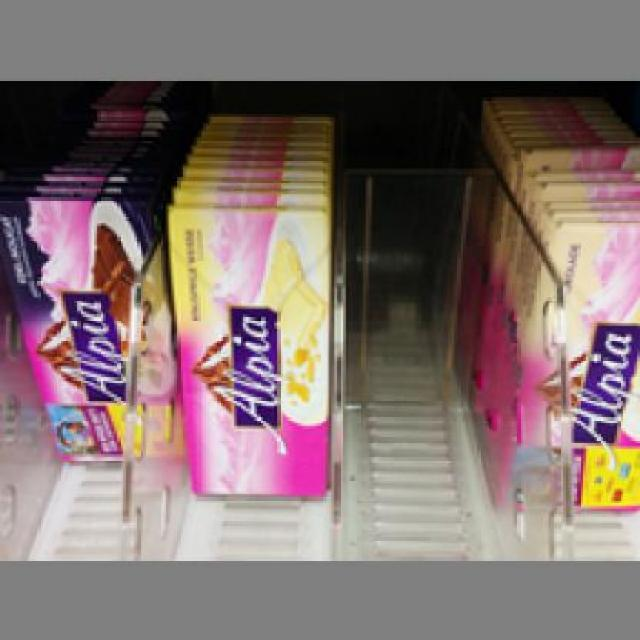Chocolate bar: (164, 203, 328, 506), (2, 194, 184, 463), (514, 226, 637, 517)
